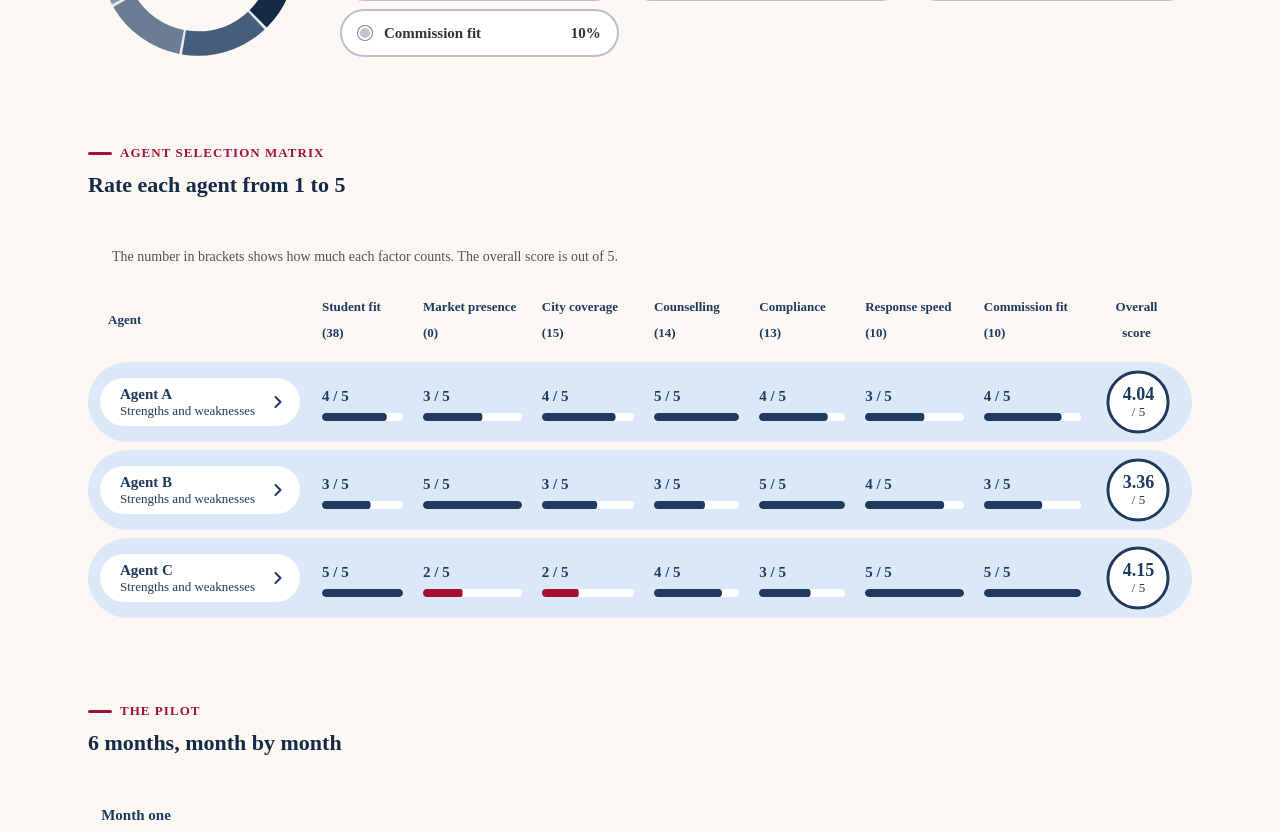
Test: AgentStrategy › matrix › recomputes scores from a changed config with no code edit
(page scrolled)
Click the button with aria-label "of Agent A".
click(200, 402)  # box [100,378,300,426]
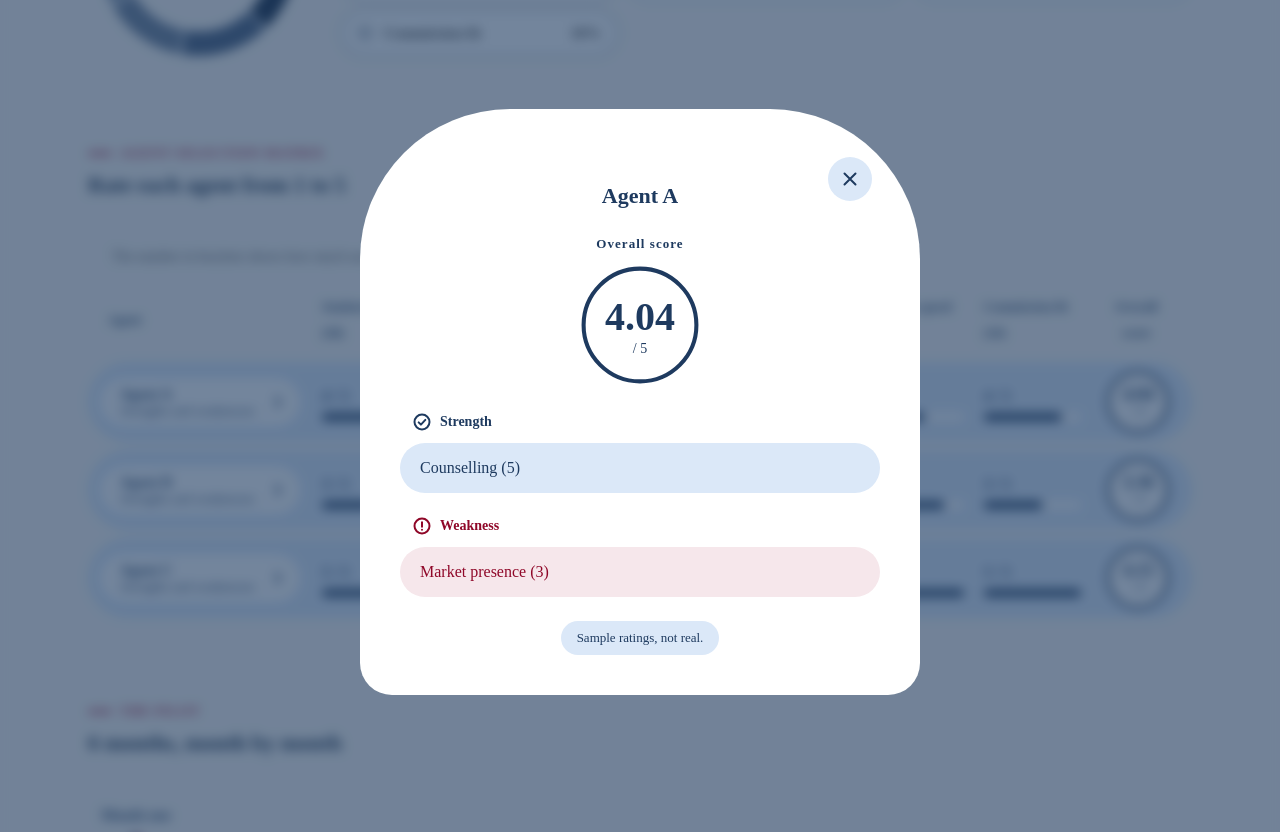
Check: the dialog shows "4.04 / 5", box [360,109,920,695]
